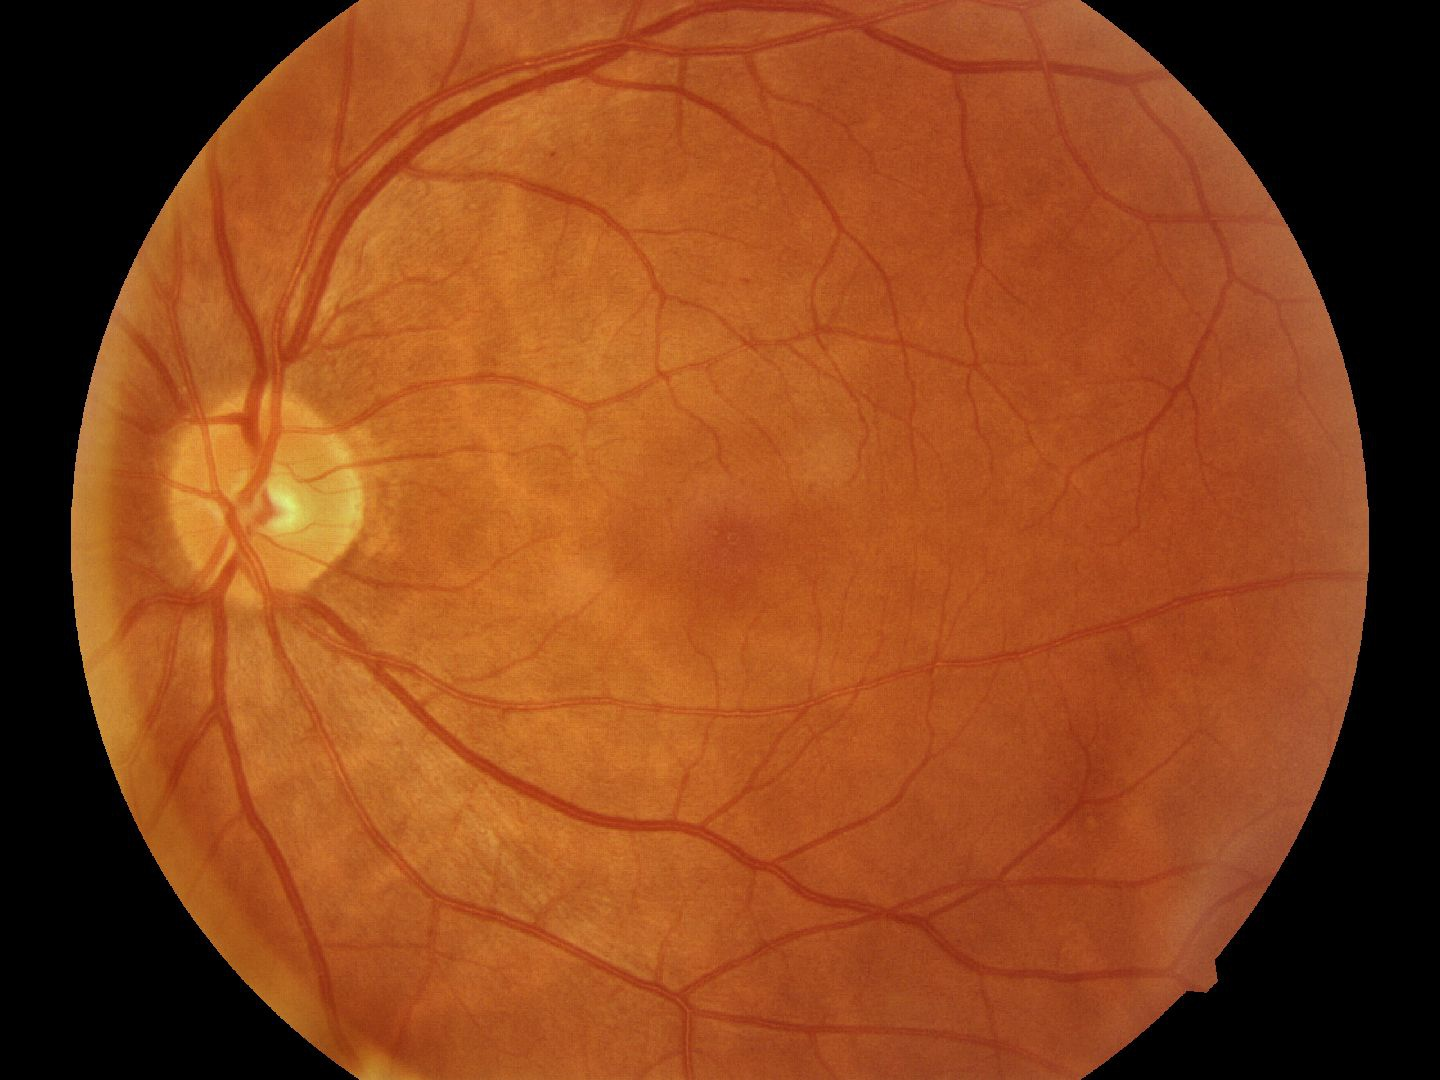Optic-Disc: (171, 386, 371, 611)
V: (196, 647, 520, 961)
Venules: (358, 37, 567, 201)
